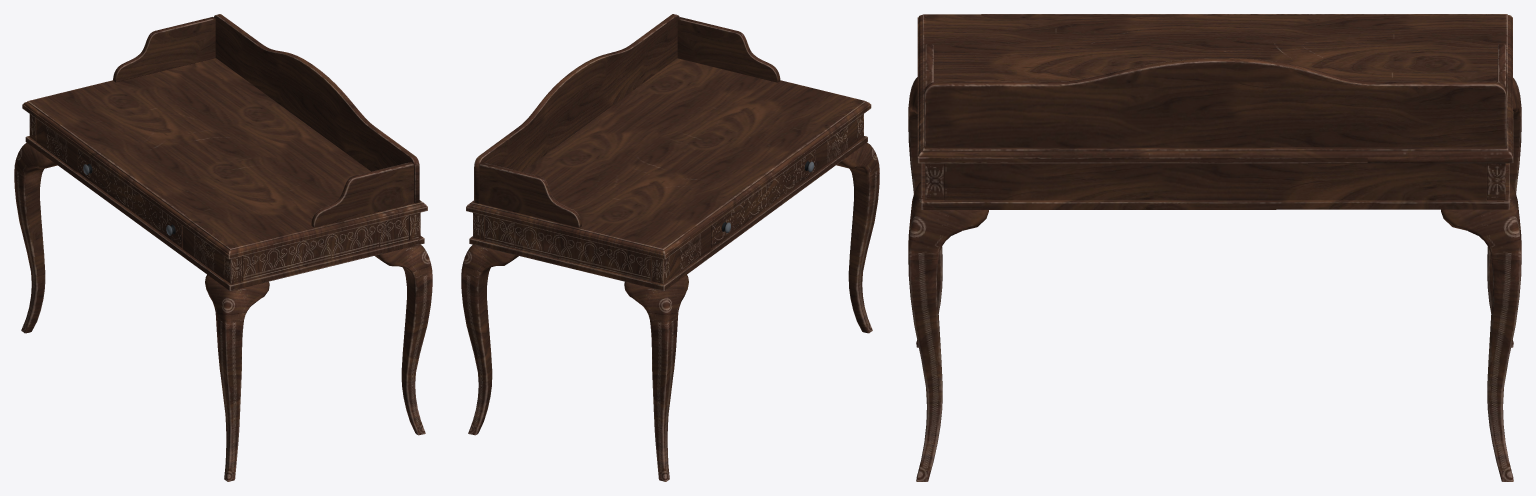
Rendered from SM_WoodenStudyTable.fbx.
3 renders of one model, left to right at view 1: azimuth 30°, elevation 25°; view 2: azimuth 150°, elevation 25°; view 3: azimuth 270°, elevation 25°, orthographic. The views are drawn at different scales.
Visible parts, largest first — view 1: SM_WoodenStudyTable_LOD0; view 2: SM_WoodenStudyTable_LOD0; view 3: SM_WoodenStudyTable_LOD0.
Part boxes in pixels (bbox=[...]): SM_WoodenStudyTable_LOD0: bbox=[14, 14, 432, 481]; SM_WoodenStudyTable_LOD0: bbox=[461, 14, 879, 481]; SM_WoodenStudyTable_LOD0: bbox=[908, 14, 1521, 481].
Size of the model in its own units: 103 by 183 by 138.
1 material, 1 textured.
